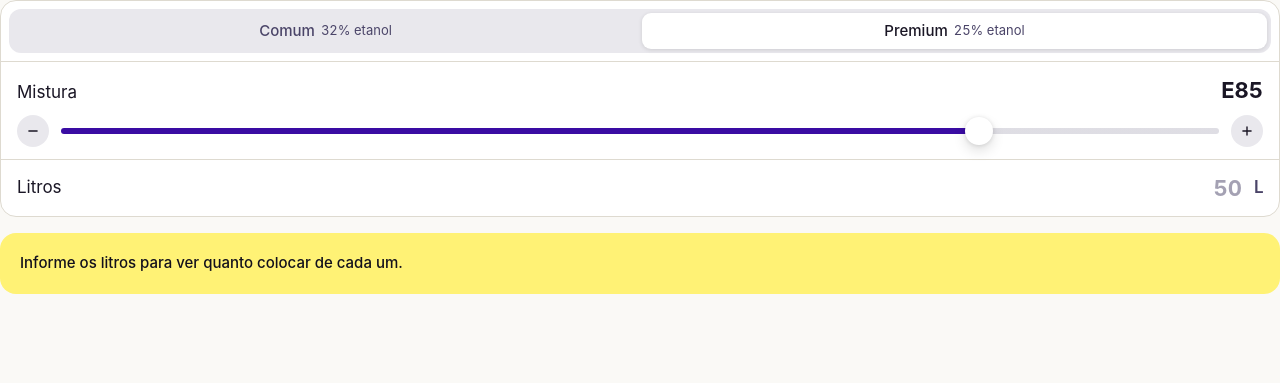
Test: Calculator › só aceita dígitos nos litros
Type "45,5" into the field named "Total de litros que vão entrar no tanque" at (658, 188), box top-left (74, 172), bottom-right (1242, 204)
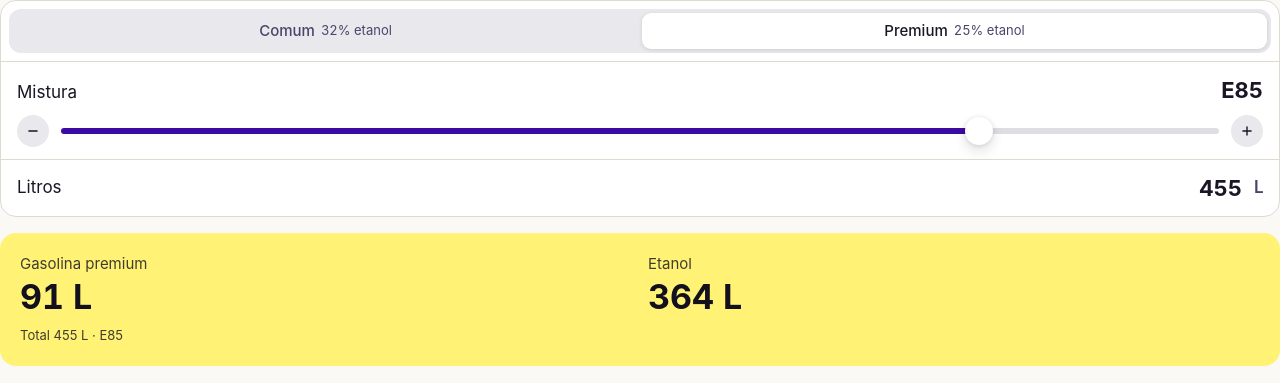
Result: the field named "Total de litros que vão entrar no tanque" holds "455" at top-left (74, 172), bottom-right (1242, 204)
